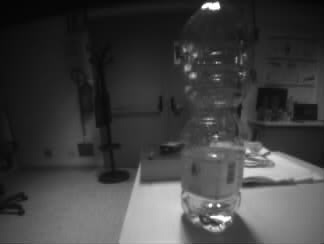Bottle: (172, 1, 250, 233)
